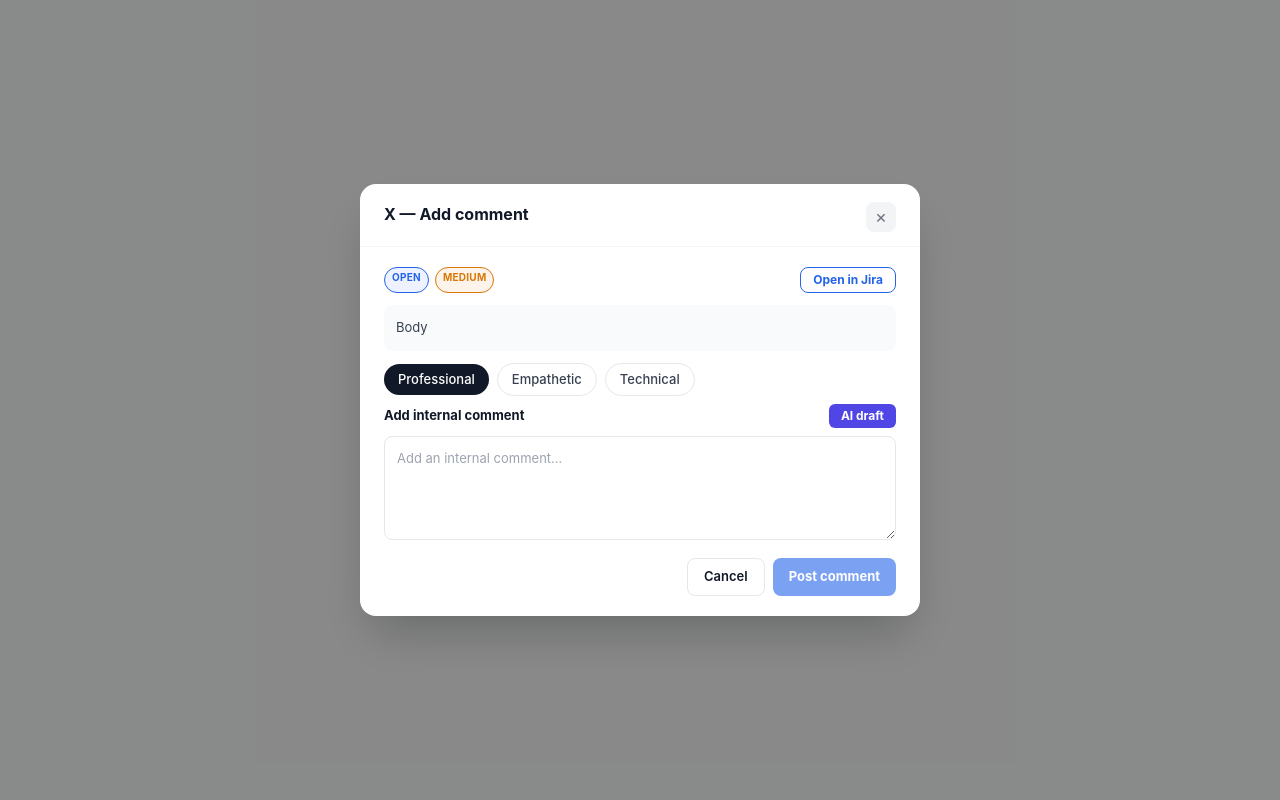
Test case: CommentModal › shows an error when posting a comment fails
Type "Hello" into the text box with placeholder "Add an internal comment…" at (640,488), box top-left (384, 436), bottom-right (896, 540)
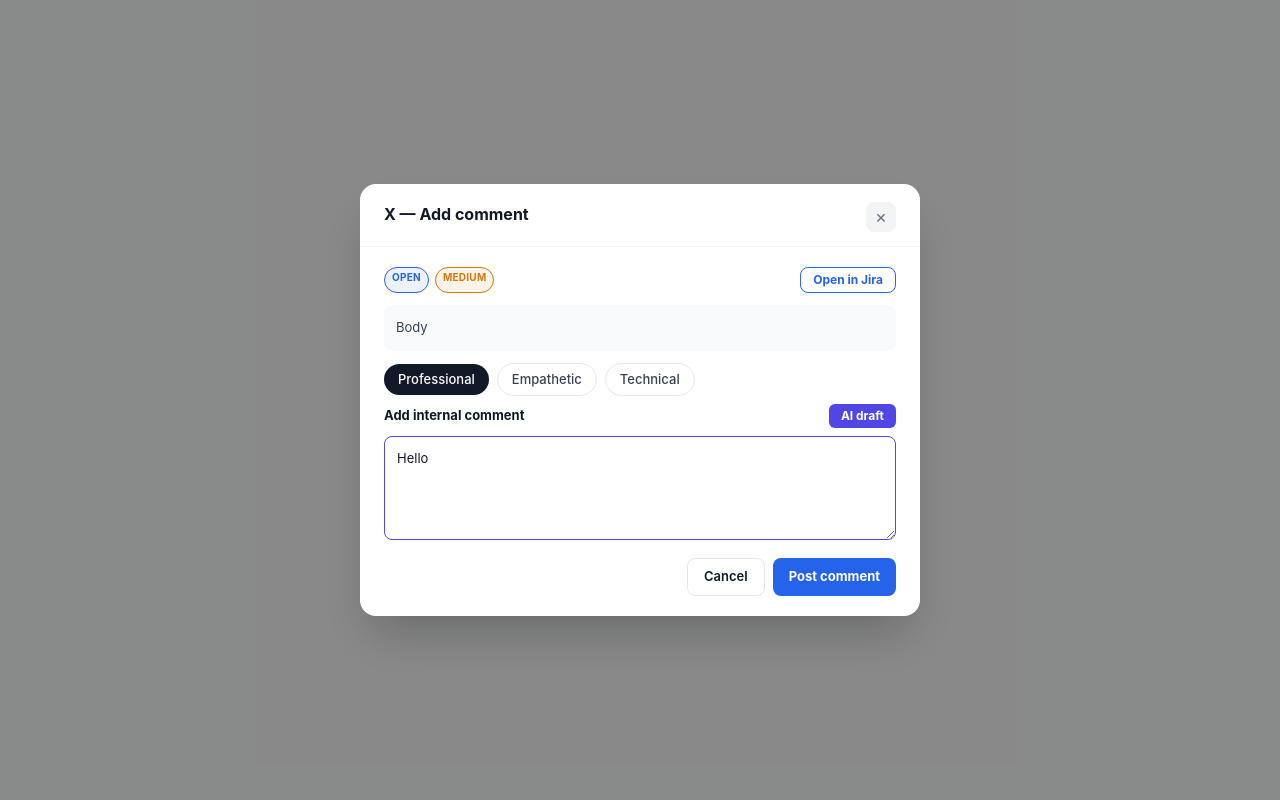
Click the button "Post comment" at (834,577), box top-left (773, 558), bottom-right (896, 596)
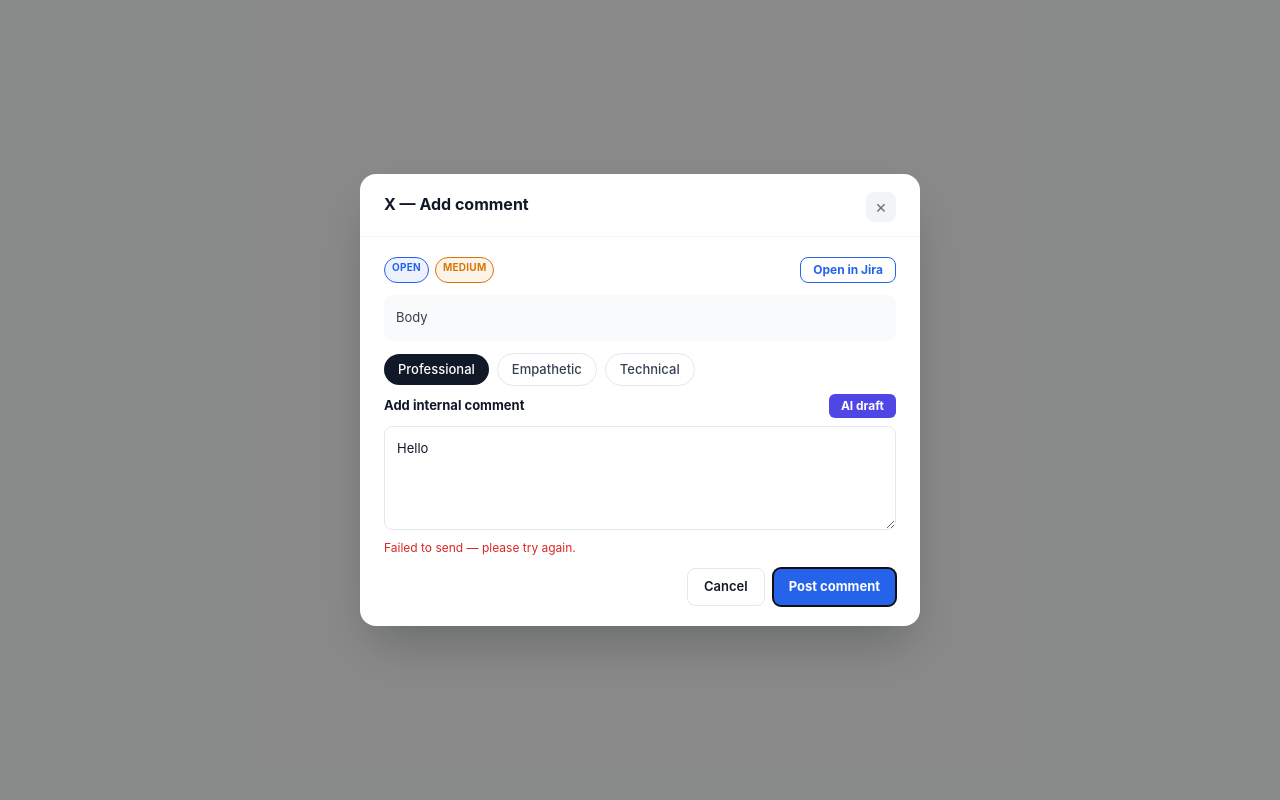
Expected: the message reads "Failed to send — please try again.", top-left (384, 540), bottom-right (576, 555)
